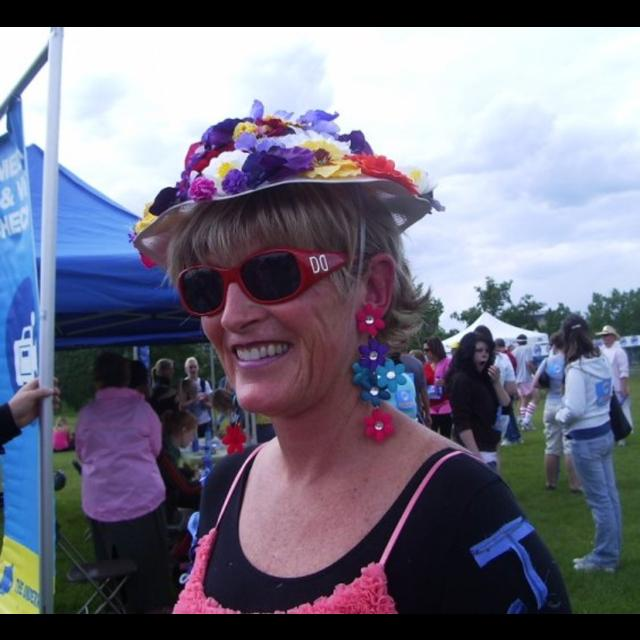Flower: (119, 95, 433, 268), (374, 360, 404, 396), (219, 419, 247, 457), (361, 336, 392, 368), (357, 379, 391, 407), (369, 409, 395, 443), (357, 303, 387, 331), (352, 362, 374, 384)
